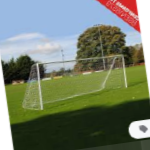goals: (20, 53, 130, 111)
